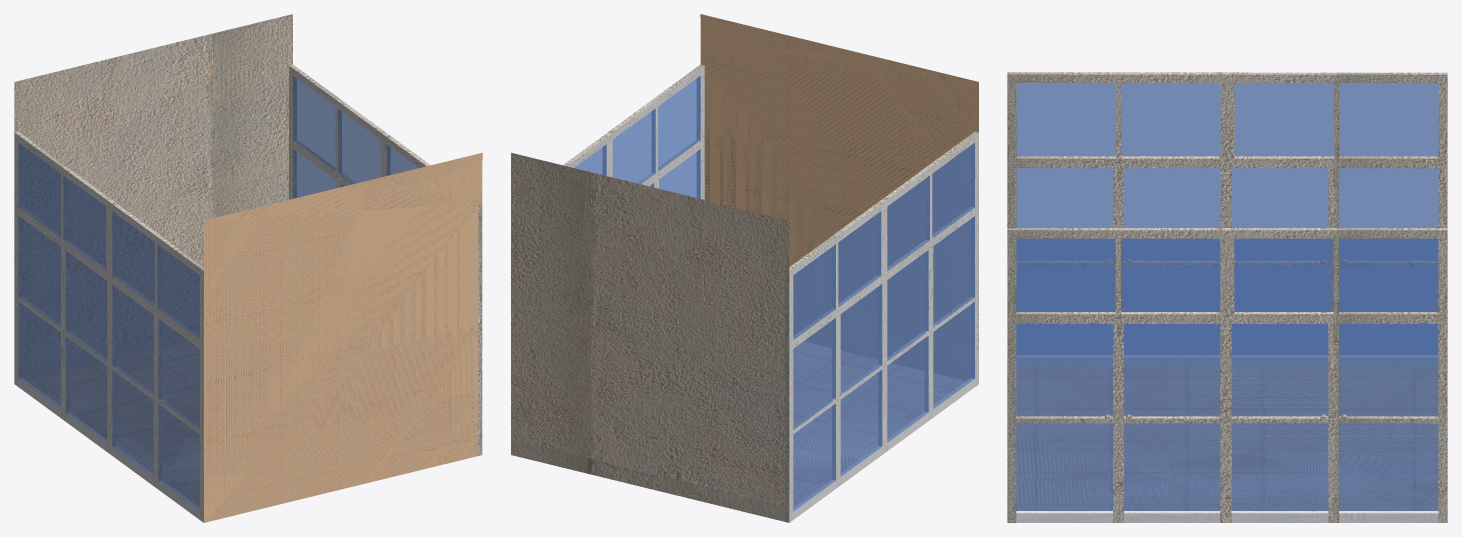
Rendered from COM021.obj.
3 renders of one model, left to right at view 1: azimuth 30°, elevation 25°; view 2: azimuth 150°, elevation 25°; view 3: azimuth 270°, elevation 25°, orthographic. The views are drawn at different scales.
Parts seen in each view (by area): view 1: Mesh13 COM021 Model, Mesh1 p16_1 COM021 Model, Mesh7 p16_2 COM021 Model; view 2: Mesh13 COM021 Model, Mesh1 p16_1 COM021 Model, Mesh7 p16_2 COM021 Model; view 3: Mesh7 p16_2 COM021 Model, Mesh1 p16_1 COM021 Model, Mesh13 COM021 Model.
Boxes of the visible parts, <box> form: Mesh13 COM021 Model: <box>14,14,482,522</box>; Mesh1 p16_1 COM021 Model: <box>14,131,203,522</box>; Mesh7 p16_2 COM021 Model: <box>289,64,482,455</box>; Mesh13 COM021 Model: <box>511,14,978,521</box>; Mesh1 p16_1 COM021 Model: <box>785,131,978,522</box>; Mesh7 p16_2 COM021 Model: <box>563,64,704,199</box>; Mesh7 p16_2 COM021 Model: <box>1007,228,1447,522</box>; Mesh1 p16_1 COM021 Model: <box>1007,72,1447,366</box>; Mesh13 COM021 Model: <box>1016,367,1437,510</box>.
Bounding box in the file's own units: 3.47 × 3.6 × 4.09.
Materials: 7 (2 with a texture image).
